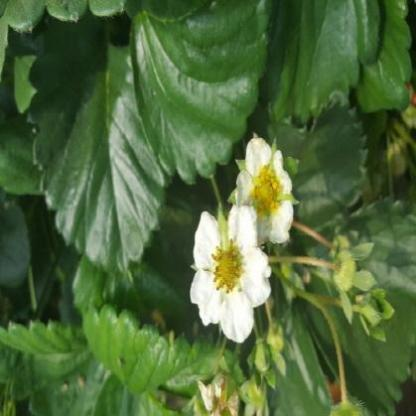Strawberry_Blossom_Blight: (207, 237, 247, 294), (247, 166, 284, 222)
